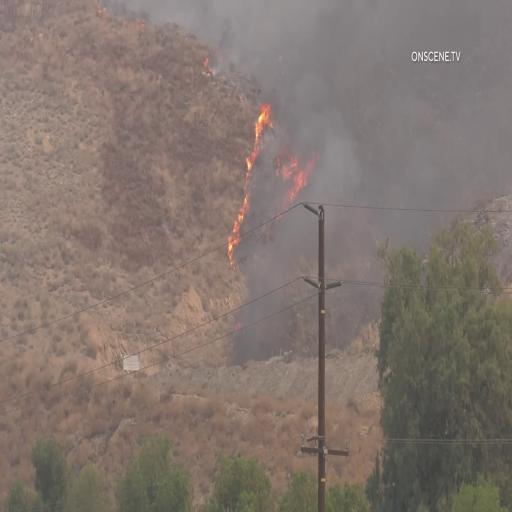fire: (222, 106, 274, 271), (274, 143, 312, 221)
smoke: (311, 36, 388, 187)
